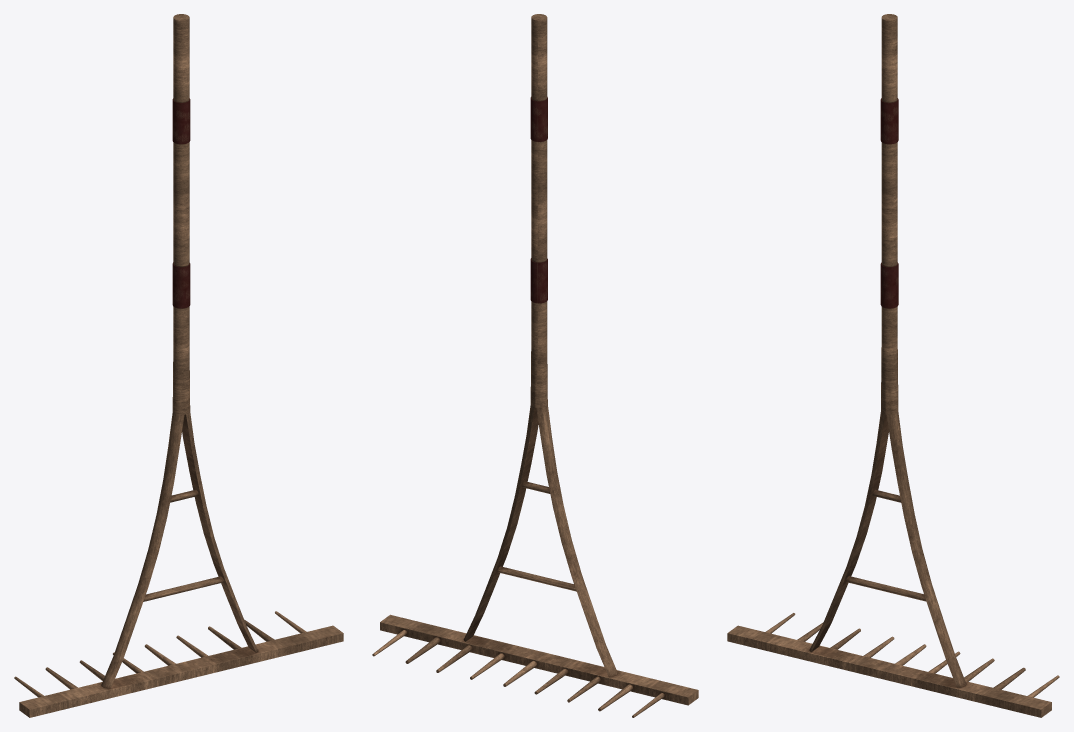
File: rake.glb
3 renders of one model, left to right at view 1: azimuth 30°, elevation 25°; view 2: azimuth 150°, elevation 25°; view 3: azimuth 330°, elevation 25°, orthographic.
Visible parts, largest first — view 1: rake; view 2: rake; view 3: rake.
Part boxes in pixels (x1,y1,x2,y2): rake: (14,14,343,717); rake: (372,14,698,717); rake: (727,14,1059,717).
Size of the model in its own units: 0.4989 by 1 by 0.1183.
1 material, 1 textured.
